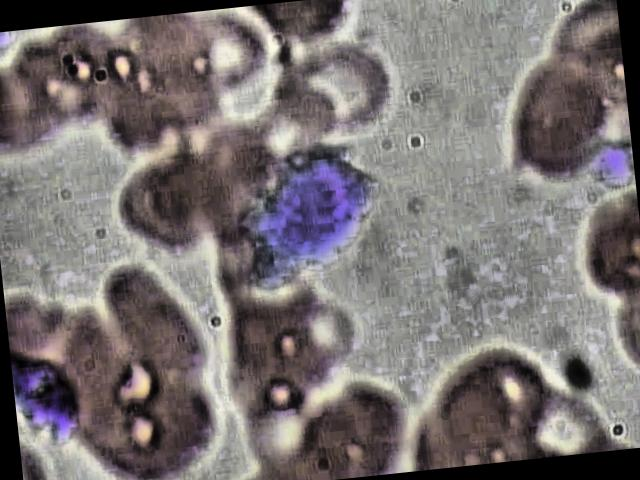Platelets: (588, 140, 636, 192), (0, 31, 17, 59)
WBC: (240, 135, 409, 291)
